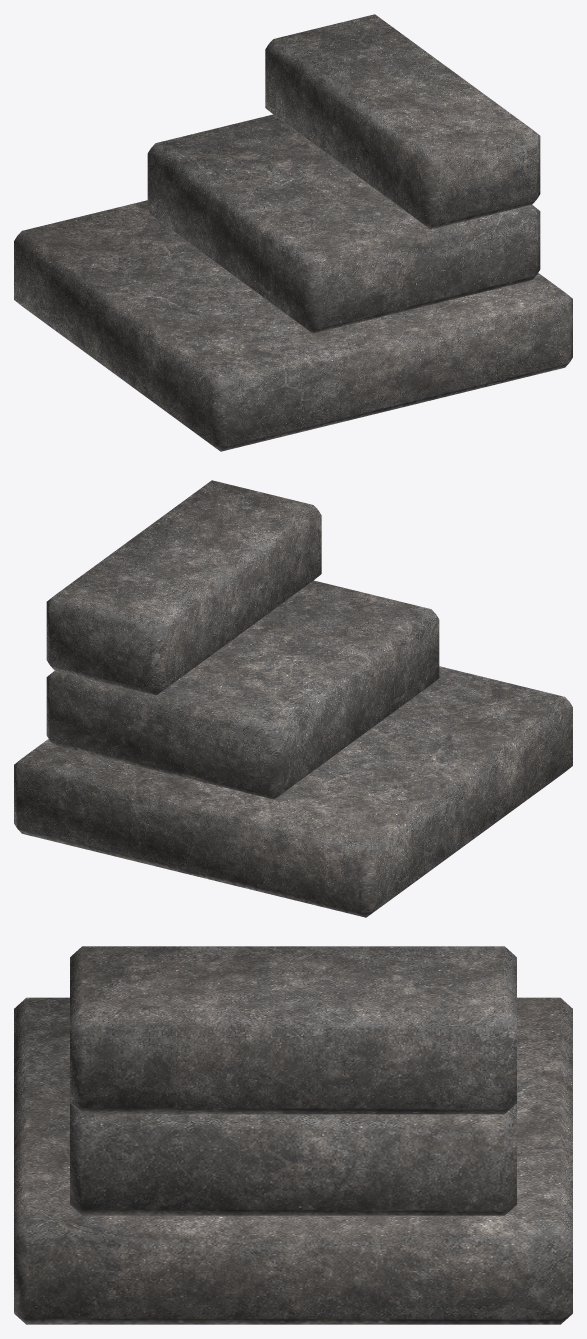
Rendered from SM_Stone_Steps.fbx.
3 renders of one model, top to bottom at view 1: azimuth 30°, elevation 25°; view 2: azimuth 150°, elevation 25°; view 3: azimuth 270°, elevation 25°, orthographic. The views are drawn at different scales.
Parts seen in each view (by area): view 1: SM_Stone_Steps; view 2: SM_Stone_Steps; view 3: SM_Stone_Steps.
Boxes of the visible parts, left/top/right/bottom form: SM_Stone_Steps: left=14, top=14, right=572, bottom=451; SM_Stone_Steps: left=14, top=480, right=572, bottom=917; SM_Stone_Steps: left=14, top=946, right=572, bottom=1324.
Size of the model in its own units: 150 by 150 by 90.
1 material, 1 textured.
